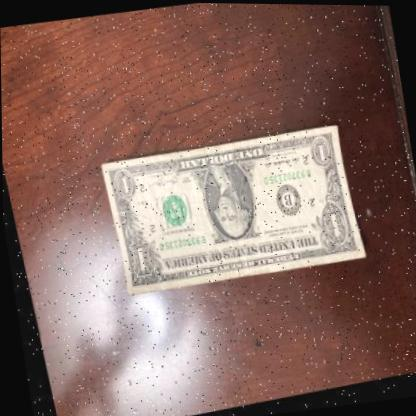dollar_front: (95, 115, 366, 308)
